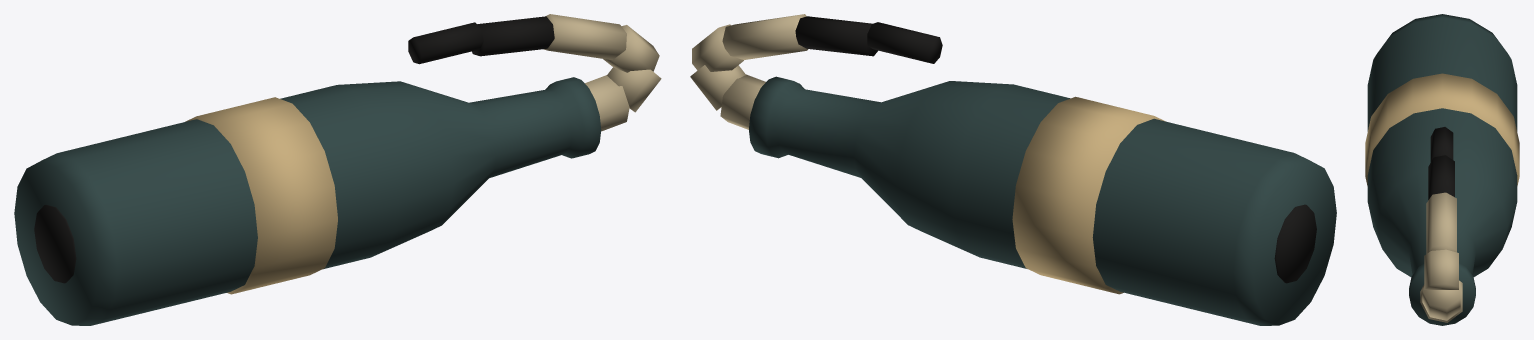
The model's file is item_bottles.glb.
3 views of the same model, side by side, from view 1: azimuth 30°, elevation 25°; view 2: azimuth 150°, elevation 25°; view 3: azimuth 270°, elevation 25° (orthographic). The views are drawn at different scales.
Visible parts, largest first — view 1: bottle, label, rag_3, punt, rag_4, rag_5, rag_0, rag_2, rag_1; view 2: bottle, label, rag_3, punt, rag_4, rag_5, rag_0, rag_2, rag_1; view 3: bottle, label, rag_3, rag_2, rag_1, rag_4, rag_5, rag_0.
Boxes of the visible parts, <box> form: bottle: <box>14,77,601,325</box>; label: <box>185,97,337,294</box>; rag_3: <box>543,14,626,60</box>; punt: <box>34,205,76,283</box>; rag_4: <box>472,16,554,56</box>; rag_5: <box>408,22,483,64</box>; rag_0: <box>585,75,629,131</box>; rag_2: <box>603,25,659,72</box>; rag_1: <box>607,67,661,112</box>; bottle: <box>749,76,1336,325</box>; label: <box>1012,96,1165,294</box>; rag_3: <box>722,14,808,59</box>; punt: <box>1274,204,1316,283</box>; rag_4: <box>795,16,877,56</box>; rag_5: <box>867,22,942,63</box>; rag_0: <box>720,74,765,129</box>; rag_2: <box>692,24,743,71</box>; rag_1: <box>690,65,745,110</box>; bottle: <box>1367,14,1517,325</box>; label: <box>1365,73,1519,185</box>; rag_3: <box>1426,192,1456,253</box>; rag_2: <box>1424,249,1458,289</box>; rag_1: <box>1422,280,1460,320</box>; rag_4: <box>1428,155,1454,199</box>; rag_5: <box>1430,127,1453,162</box>; rag_0: <box>1420,281,1462,322</box>.
Bounding box in the file's own units: 0.3441 × 0.1094 × 0.0902.
